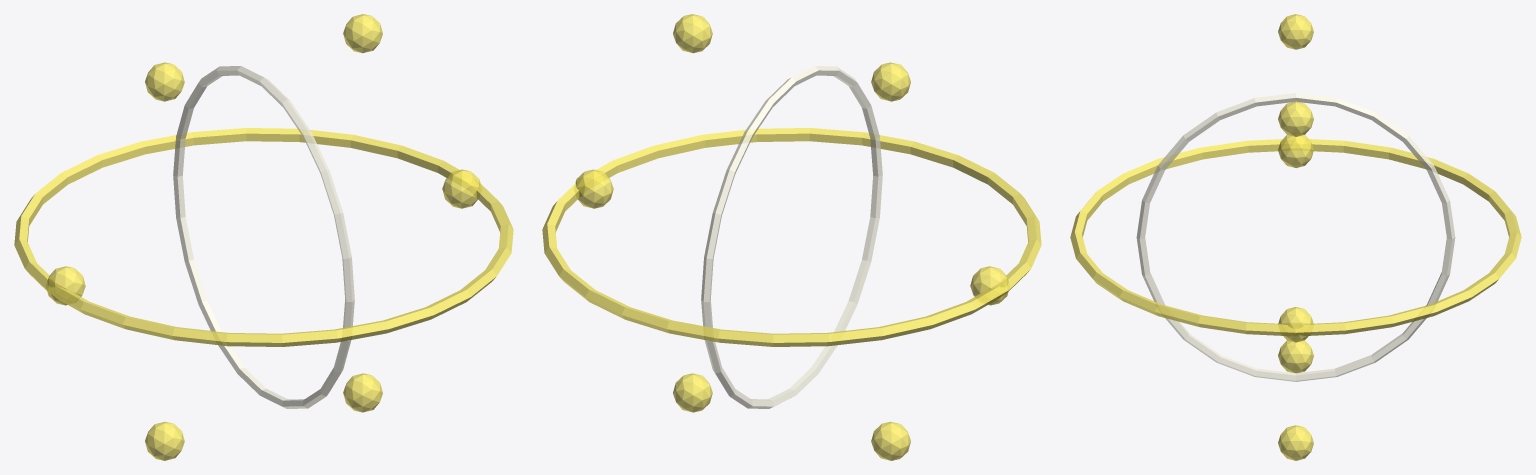
The model's file is vfx_combo_multiplier_orbit.glb.
The picture shows the model from 3 angles, left to right: view 1: azimuth 30°, elevation 25°; view 2: azimuth 150°, elevation 25°; view 3: azimuth 270°, elevation 25°; orthographic projection. The views are drawn at different scales.
Parts seen in each view (by area): view 1: outer, inner, spark_2, spark_5, spark_1, spark_4, spark_0, spark_3; view 2: outer, inner, spark_2, spark_5, spark_1, spark_4, spark_0, spark_3; view 3: outer, inner, spark_2, spark_5, spark_1, spark_3, spark_4, spark_0.
Boxes of the visible parts, left/top/right/bottom form: outer: left=14, top=128, right=513, bottom=346; inner: left=173, top=66, right=354, bottom=408; spark_2: left=145, top=62, right=184, bottom=101; spark_5: left=343, top=373, right=382, bottom=412; spark_1: left=343, top=14, right=382, bottom=53; spark_4: left=145, top=421, right=184, bottom=460; spark_0: left=442, top=169, right=480, bottom=208; spark_3: left=47, top=266, right=85, bottom=305; outer: left=542, top=128, right=1041, bottom=346; inner: left=701, top=66, right=882, bottom=408; spark_2: left=871, top=62, right=910, bottom=101; spark_5: left=673, top=373, right=712, bottom=412; spark_1: left=673, top=14, right=712, bottom=53; spark_4: left=871, top=421, right=910, bottom=460; spark_0: left=575, top=169, right=613, bottom=208; spark_3: left=970, top=266, right=1008, bottom=305; outer: left=1070, top=139, right=1521, bottom=335; inner: left=1136, top=93, right=1455, bottom=381; spark_2: left=1278, top=14, right=1313, bottom=49; spark_5: left=1278, top=425, right=1313, bottom=460; spark_1: left=1278, top=101, right=1313, bottom=136; spark_3: left=1278, top=135, right=1313, bottom=167; spark_4: left=1278, top=340, right=1313, bottom=373; spark_0: left=1278, top=307, right=1313, bottom=342.
Bounding box in the file's own units: 1.75 × 1.53 × 1.75.
